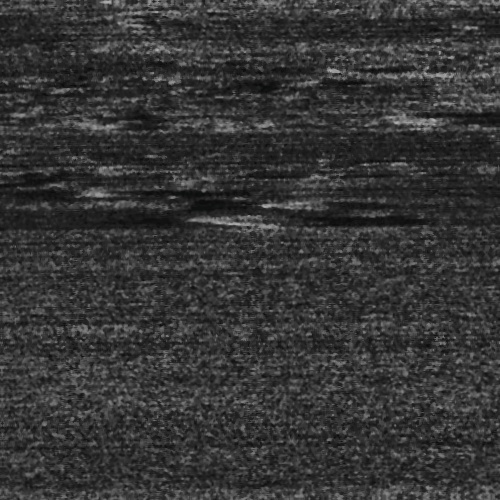object: (71, 184, 176, 191), (266, 200, 339, 209), (374, 111, 437, 116), (315, 77, 356, 82), (314, 65, 367, 68)
shadow: (124, 184, 248, 191), (303, 200, 359, 209), (406, 111, 493, 116), (336, 77, 392, 82), (423, 119, 500, 122), (340, 65, 397, 68)
